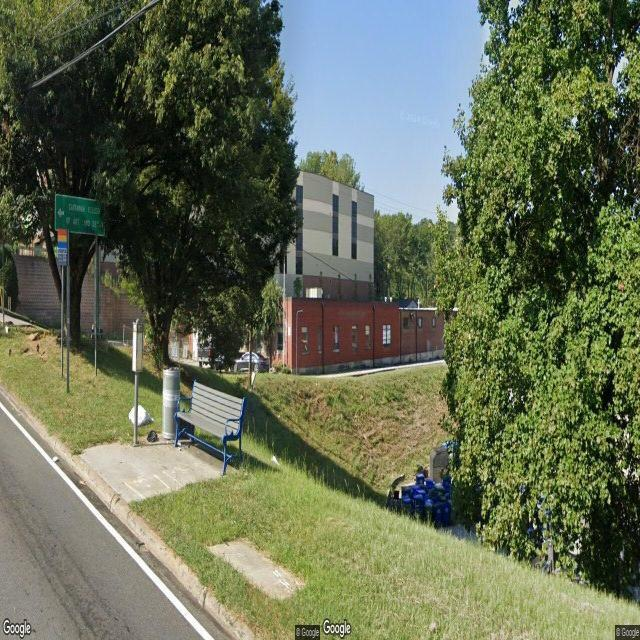seating: (173, 379, 247, 476)
trash_can: (162, 366, 181, 439)
